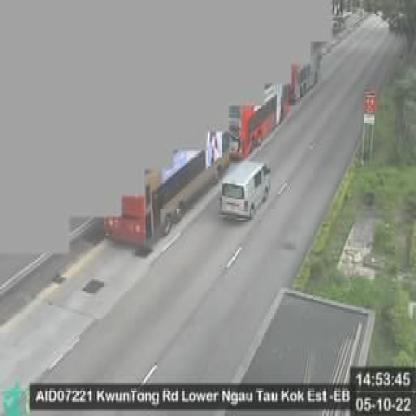Car: (217, 158, 272, 220)
